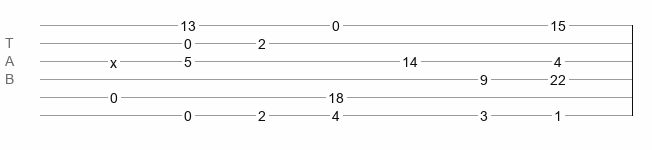0: (110, 90, 118, 100), (184, 36, 192, 46), (184, 108, 192, 118), (332, 18, 340, 28)
1: (554, 108, 562, 118)
13: (180, 18, 196, 28)
14: (402, 54, 418, 64)
15: (550, 18, 566, 28)
18: (328, 90, 344, 100)
2: (258, 36, 266, 46), (258, 108, 266, 118)
22: (550, 72, 566, 82)
3: (480, 108, 488, 118)
4: (332, 108, 340, 118), (554, 54, 562, 64)
5: (184, 54, 192, 64)
9: (480, 72, 488, 82)
x: (110, 55, 117, 63)
